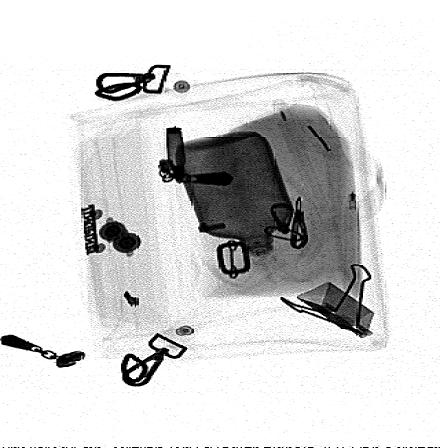Bullet: (164, 124, 188, 187)
